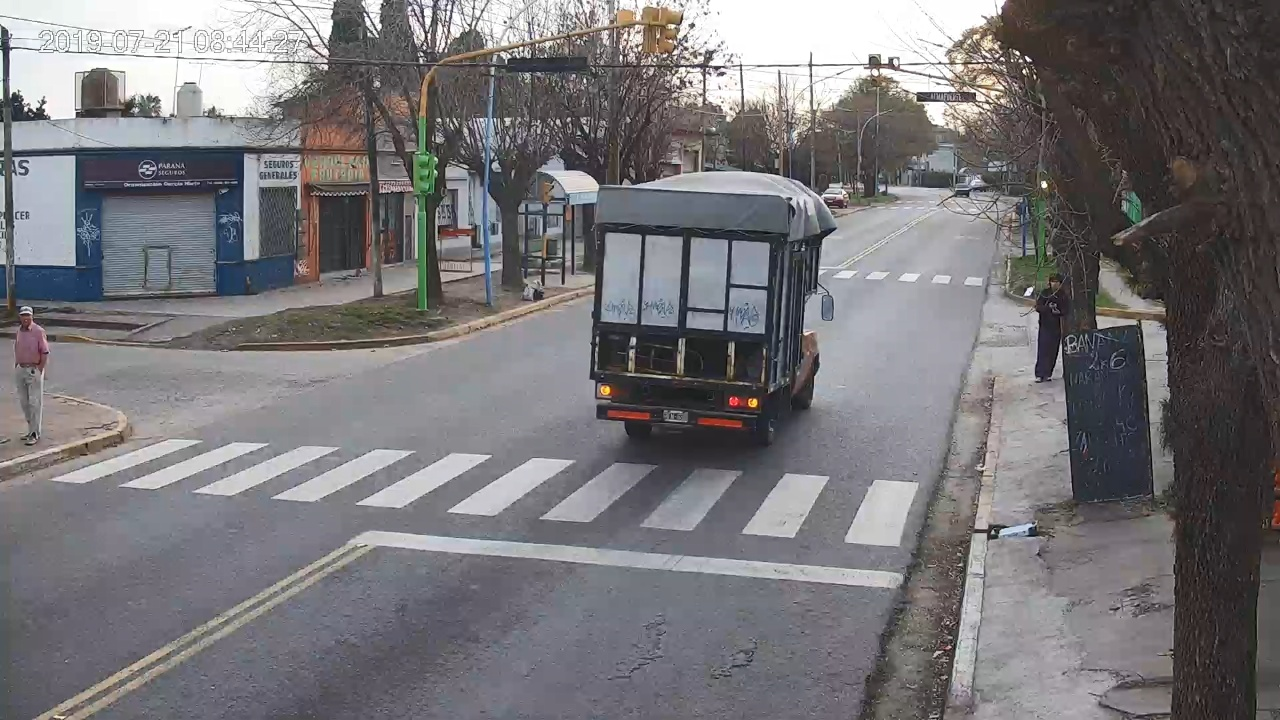traffic light: (869, 53, 881, 85)
truck: (590, 172, 837, 445)
